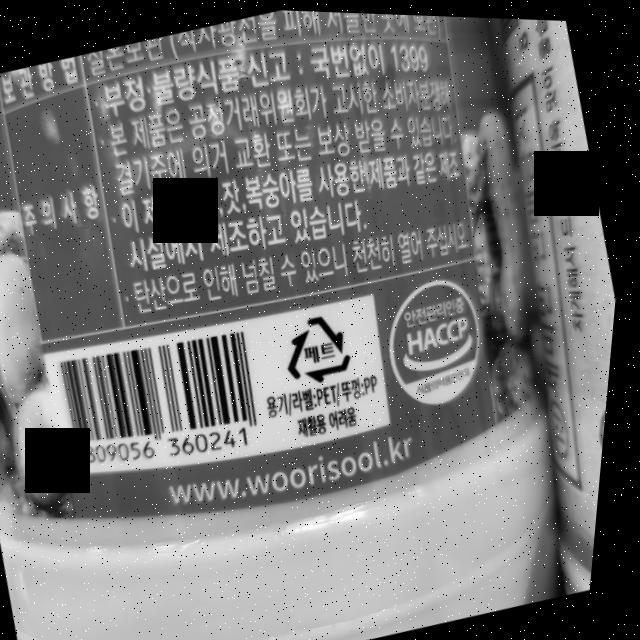PET: (274, 299, 371, 394)
